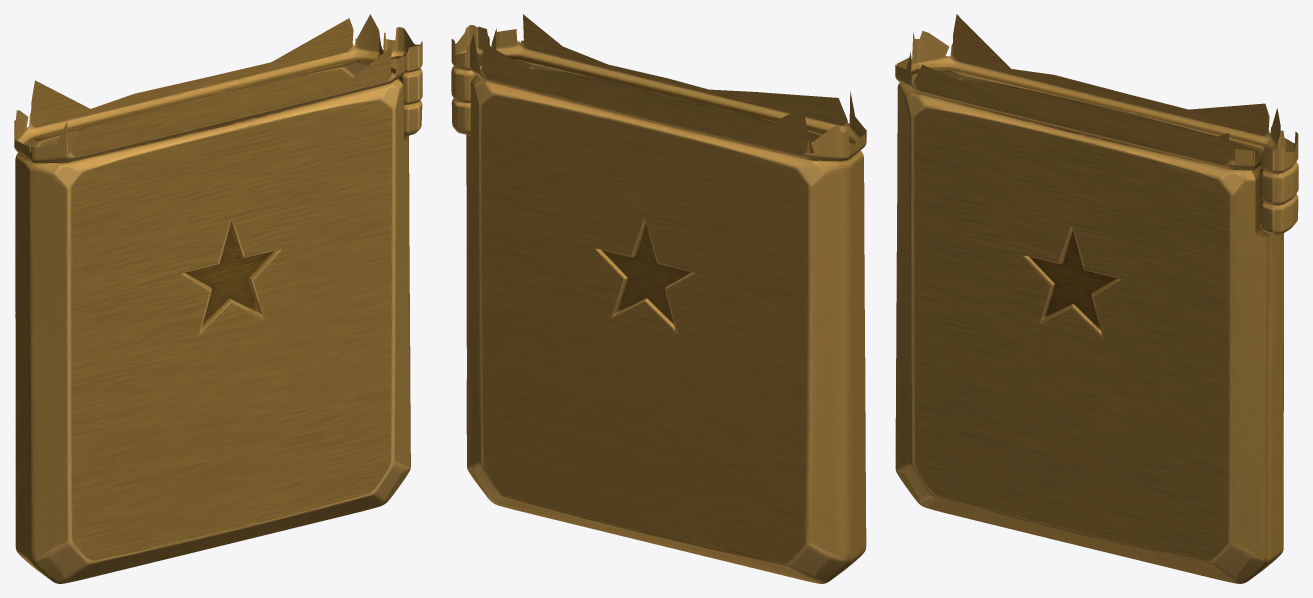
Rendered from zippo_body.glb.
3 renders of one model, left to right at view 1: azimuth 30°, elevation 25°; view 2: azimuth 150°, elevation 25°; view 3: azimuth 330°, elevation 25°, orthographic. The views are drawn at different scales.
Visible parts, largest first — view 1: Mesh_0; view 2: Mesh_0; view 3: Mesh_0.
Boxes of the visible parts, left/top/right/bottom form: Mesh_0: left=14, top=14, right=422, bottom=583; Mesh_0: left=451, top=14, right=866, bottom=583; Mesh_0: left=895, top=14, right=1298, bottom=583.
Bounding box in the file's own units: 0.0373 × 0.0435 × 0.0065.
Materials: 1 (1 with a texture image).
